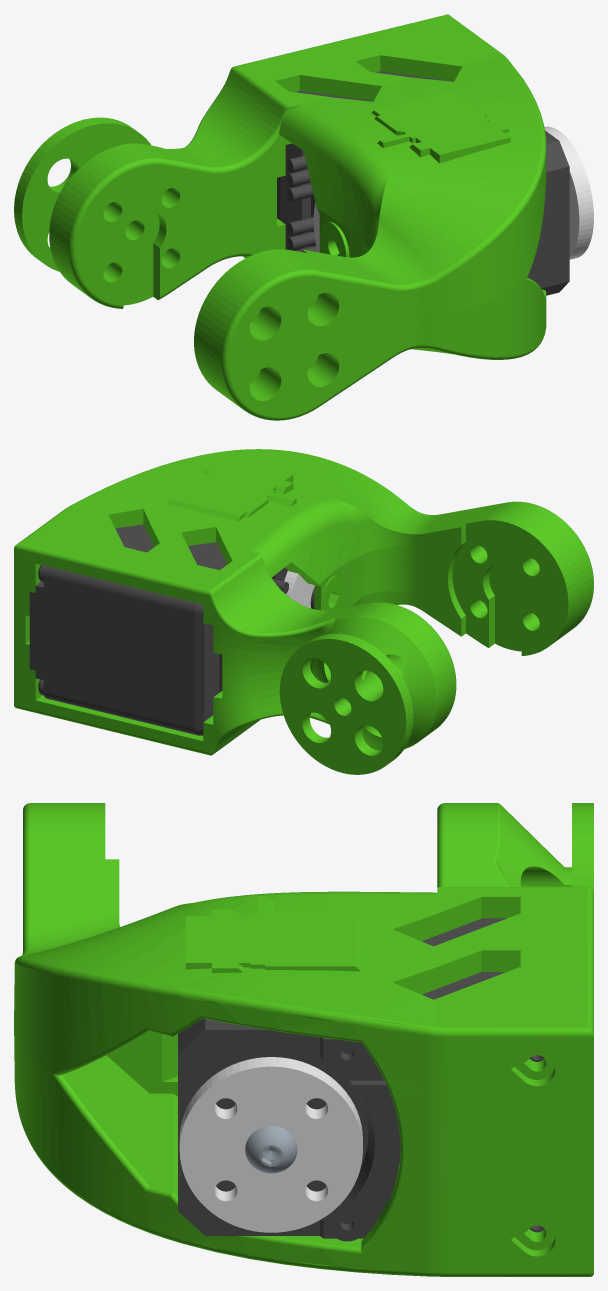
Rendered from arm2_wrist_pitch.obj.
The picture shows the model from 3 angles, top to bottom: view 1: azimuth 30°, elevation 25°; view 2: azimuth 150°, elevation 25°; view 3: azimuth 270°, elevation 25°; orthographic projection. The views are drawn at different scales.
Visible parts, largest first — view 1: arm2_wrist_pitch_wrist_roll_pitch_08i_72, arm2_wrist_pitch_sts3215_servo_71, arm2_wrist_pitch_driven_horn_70; view 2: arm2_wrist_pitch_wrist_roll_pitch_08i_72, arm2_wrist_pitch_sts3215_servo_71, arm2_wrist_pitch_passive_horn_68; view 3: arm2_wrist_pitch_wrist_roll_pitch_08i_72, arm2_wrist_pitch_driven_horn_70, arm2_wrist_pitch_sts3215_servo_71, arm2_wrist_pitch_socket_button_head_screw_m3x0_5_x_5__3d0b7d67b0.
Boxes of the visible parts, left/top/right/bottom form: arm2_wrist_pitch_wrist_roll_pitch_08i_72: left=14, top=14, right=546, bottom=420; arm2_wrist_pitch_sts3215_servo_71: left=277, top=71, right=569, bottom=295; arm2_wrist_pitch_driven_horn_70: left=544, top=126, right=593, bottom=259; arm2_wrist_pitch_wrist_roll_pitch_08i_72: left=14, top=449, right=593, bottom=774; arm2_wrist_pitch_sts3215_servo_71: left=29, top=524, right=314, bottom=735; arm2_wrist_pitch_passive_horn_68: left=284, top=571, right=314, bottom=608; arm2_wrist_pitch_wrist_roll_pitch_08i_72: left=14, top=803, right=593, bottom=1276; arm2_wrist_pitch_driven_horn_70: left=179, top=1057, right=362, bottom=1232; arm2_wrist_pitch_sts3215_servo_71: left=178, top=918, right=544, bottom=1241; arm2_wrist_pitch_socket_button_head_screw_m3x0_5_x_5__3d0b7d67b0: left=245, top=1126, right=297, bottom=1173.
Bounding box in the file's own units: 0.0747 × 0.032 × 0.0633.
